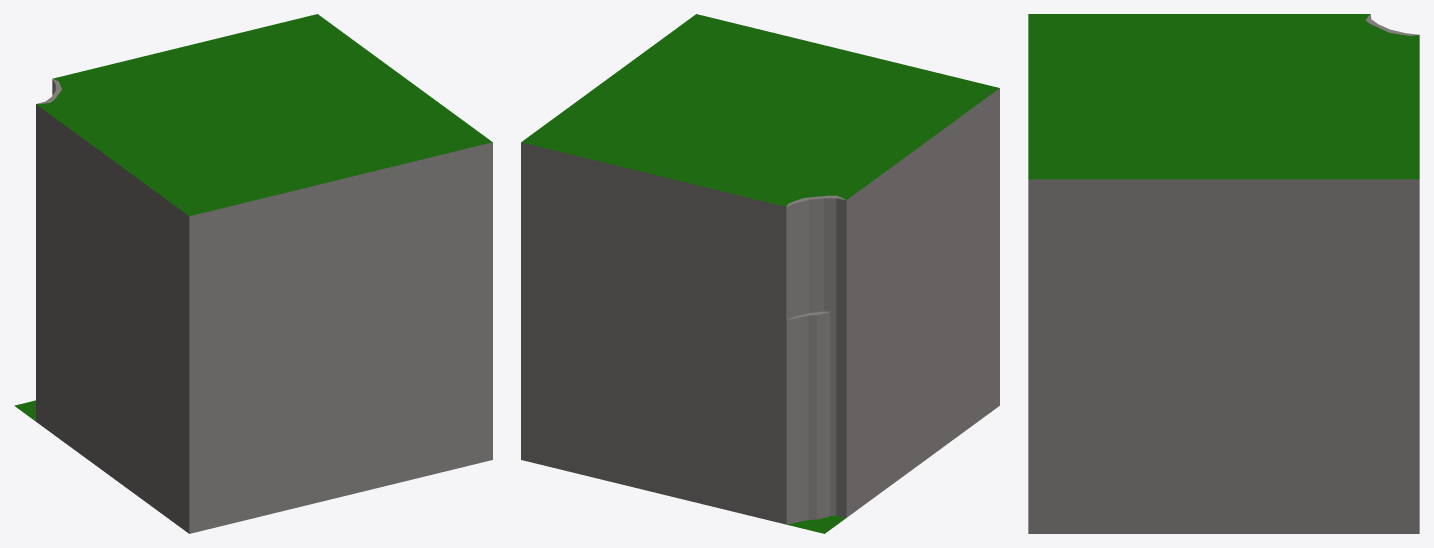
The model's file is MountainWedge.fbx.
The picture shows the model from 3 angles, left to right: view 1: azimuth 30°, elevation 25°; view 2: azimuth 150°, elevation 25°; view 3: azimuth 270°, elevation 25°; orthographic projection. The views are drawn at different scales.
Visible parts, largest first — view 1: Plane.005; view 2: Plane.005; view 3: Plane.005.
Boxes of the visible parts, <box> form: Plane.005: <box>14,14,492,533</box>; Plane.005: <box>521,14,999,533</box>; Plane.005: <box>1028,14,1419,533</box>.
Bounding box in the file's own units: 100 × 100 × 100.
